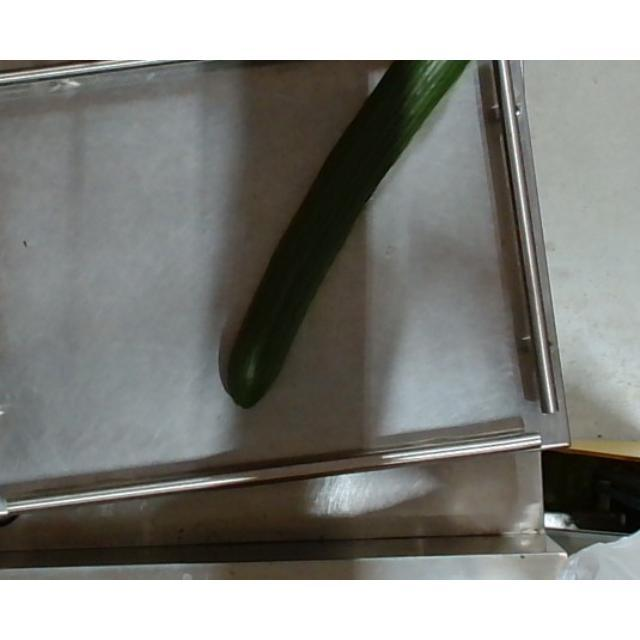cucumber: (226, 60, 472, 408)
